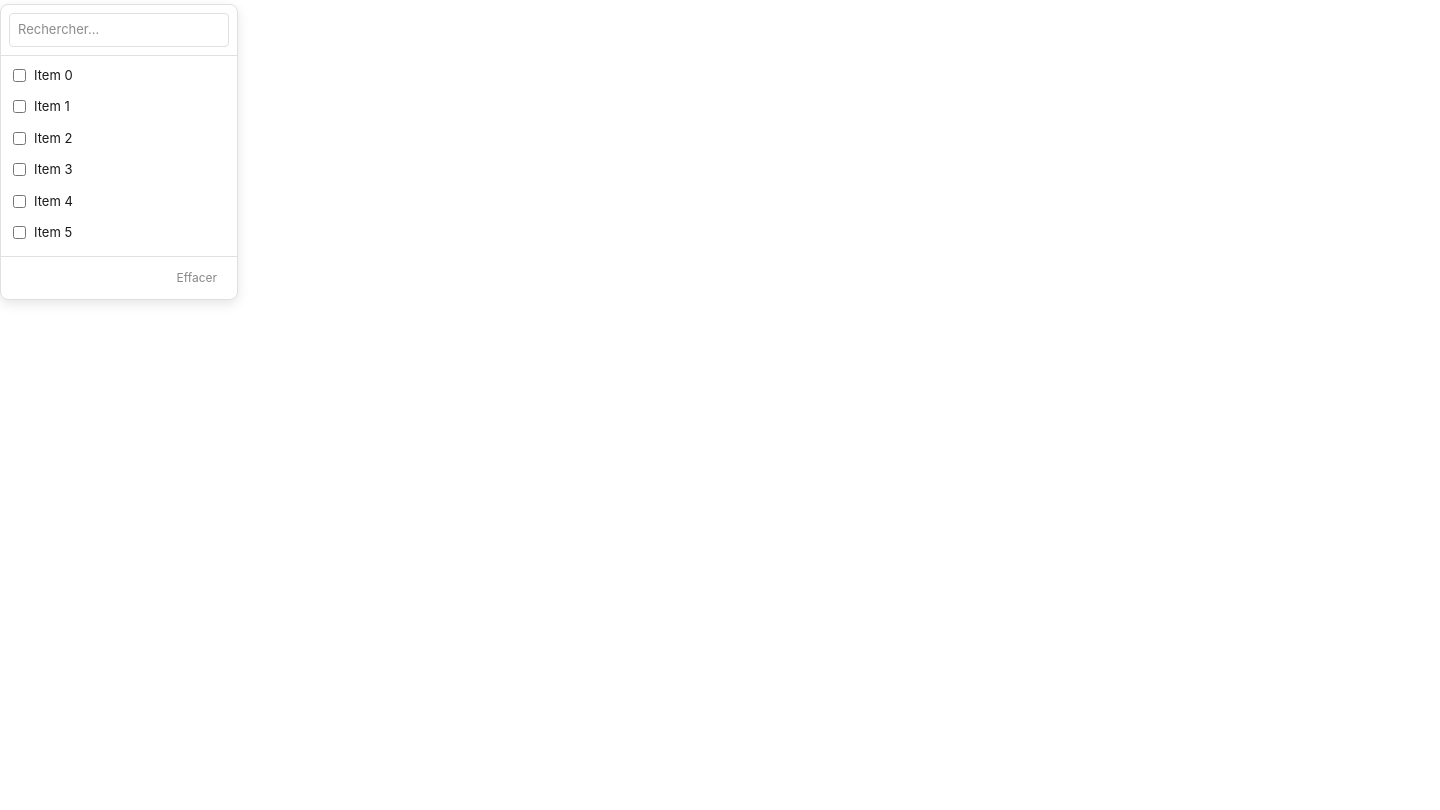
Test: ColumnFilterPopoverComponent › should filter options based on search term
Type "Item 1" into the field with class "filter-search-input".
click(119, 30); type("Item 1")  # box [9,13,229,46]
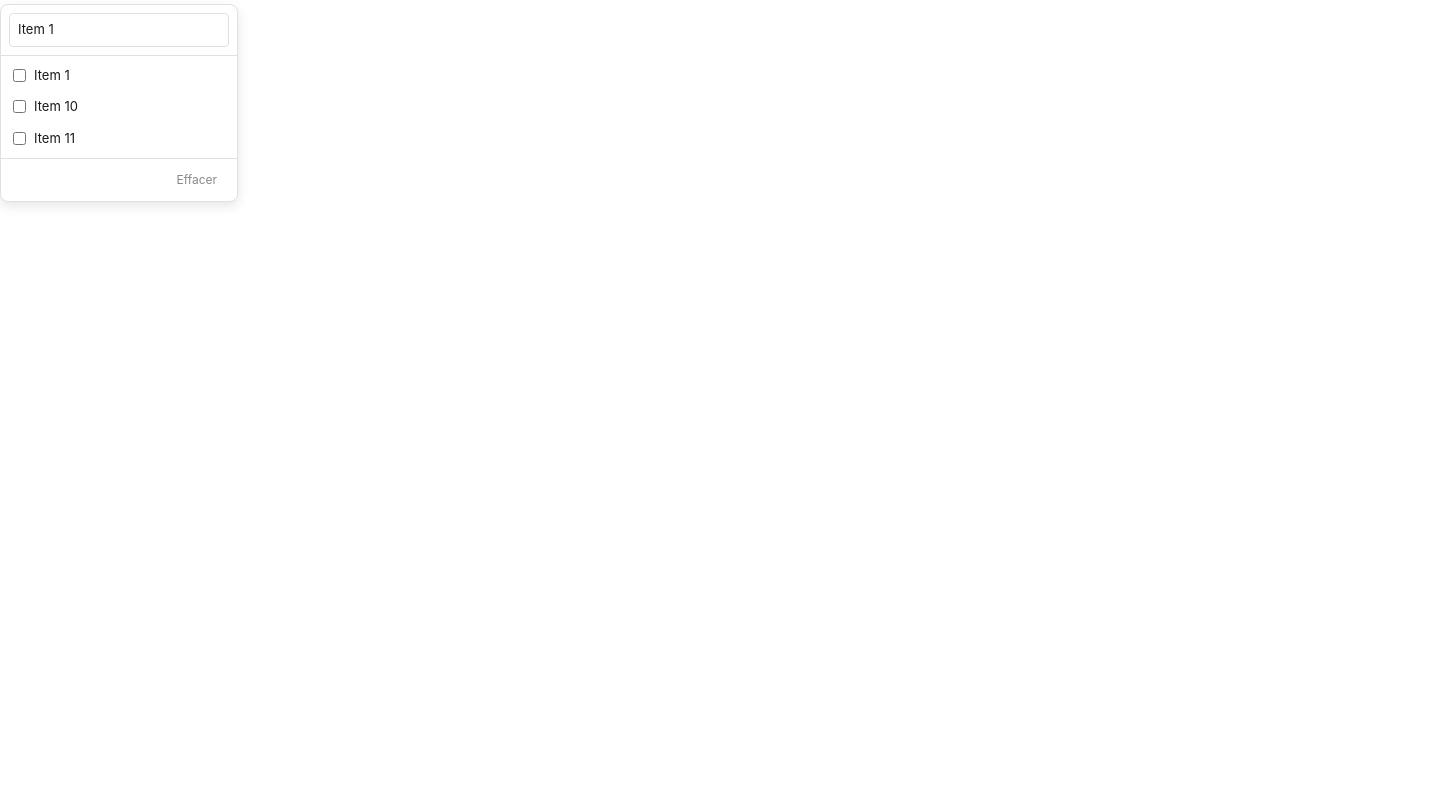
Result: the number of elements with class "filter-option-label" is 3 at [34,66,70,85]; [34,97,78,116]; [34,128,75,148]
